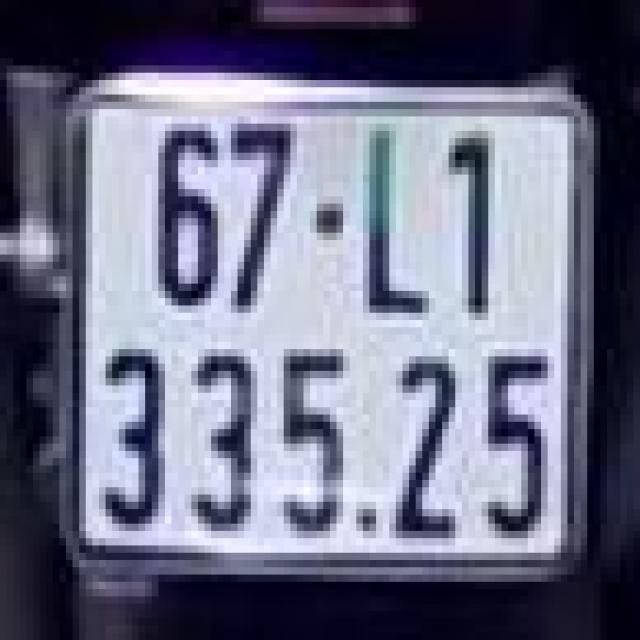1: (442, 109, 495, 320)
2: (383, 346, 462, 549)
3: (92, 346, 178, 534), (192, 345, 270, 542)
5: (472, 353, 564, 549), (280, 338, 360, 542)
6: (152, 127, 231, 324)
7: (231, 112, 303, 324)
L: (353, 120, 432, 324)
